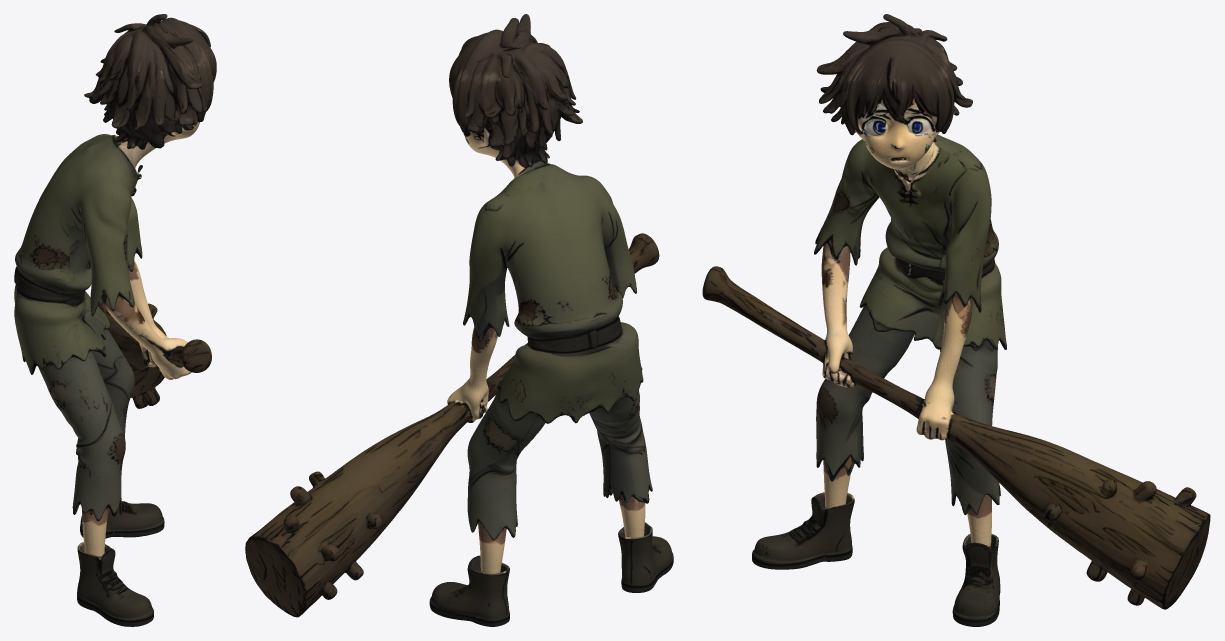
File: wooden-club.glb
3 renders of one model, left to right at view 1: azimuth 30°, elevation 25°; view 2: azimuth 150°, elevation 25°; view 3: azimuth 270°, elevation 25°, orthographic. The views are drawn at different scales.
Parts seen in each view (by area): view 1: tripo_node_4dd15e5d-3413-4aaa-b4ab-0c43fc61c36e; view 2: tripo_node_4dd15e5d-3413-4aaa-b4ab-0c43fc61c36e; view 3: tripo_node_4dd15e5d-3413-4aaa-b4ab-0c43fc61c36e.
Part boxes in pixels (left/top/right/bottom): tripo_node_4dd15e5d-3413-4aaa-b4ab-0c43fc61c36e: left=14, top=14, right=216, bottom=626; tripo_node_4dd15e5d-3413-4aaa-b4ab-0c43fc61c36e: left=245, top=14, right=673, bottom=626; tripo_node_4dd15e5d-3413-4aaa-b4ab-0c43fc61c36e: left=702, top=14, right=1210, bottom=626.
Bounding box in the file's own units: 0.4973 × 1 × 0.7766.
Materials: 1 (1 with a texture image).
